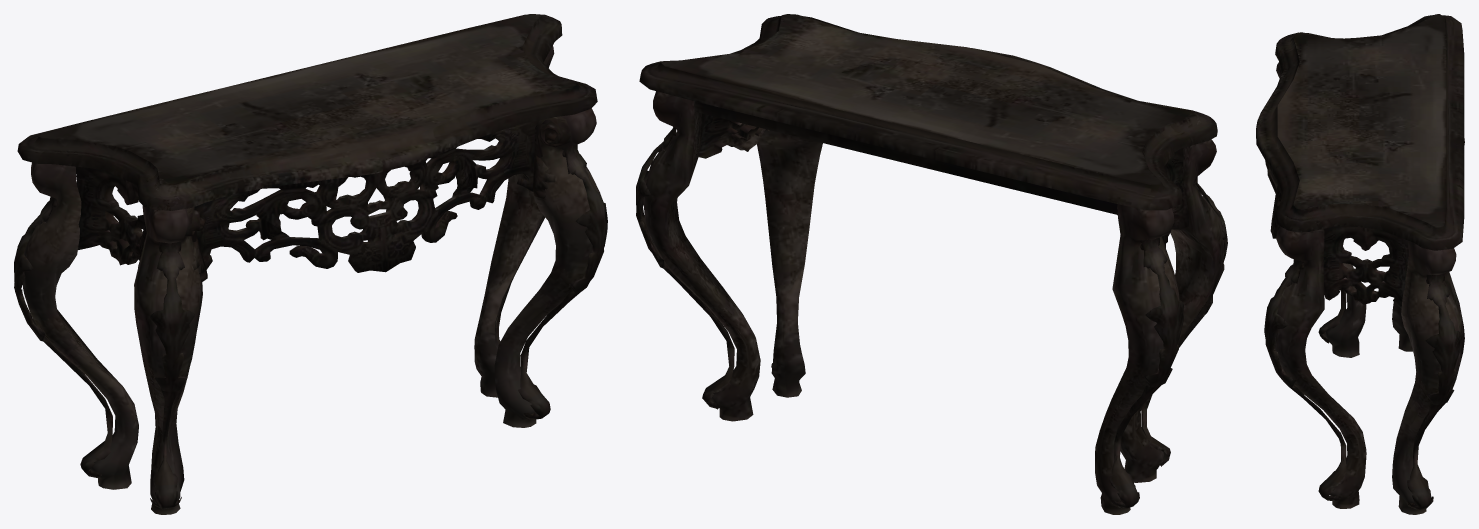
File: ClassicConsole_01.glb
The picture shows the model from 3 angles, left to right: view 1: azimuth 30°, elevation 25°; view 2: azimuth 150°, elevation 25°; view 3: azimuth 270°, elevation 25°; orthographic projection. The views are drawn at different scales.
Visible parts, largest first — view 1: ClassicConsole_01; view 2: ClassicConsole_01; view 3: ClassicConsole_01.
Boxes of the visible parts, x1,y1,x2,y2 form: ClassicConsole_01: (14,14,607,514); ClassicConsole_01: (636,14,1227,514); ClassicConsole_01: (1256,14,1464,514).
Bounding box in the file's own units: 1.54 × 0.9491 × 0.5859.
Materials: 1 (1 with a texture image).
